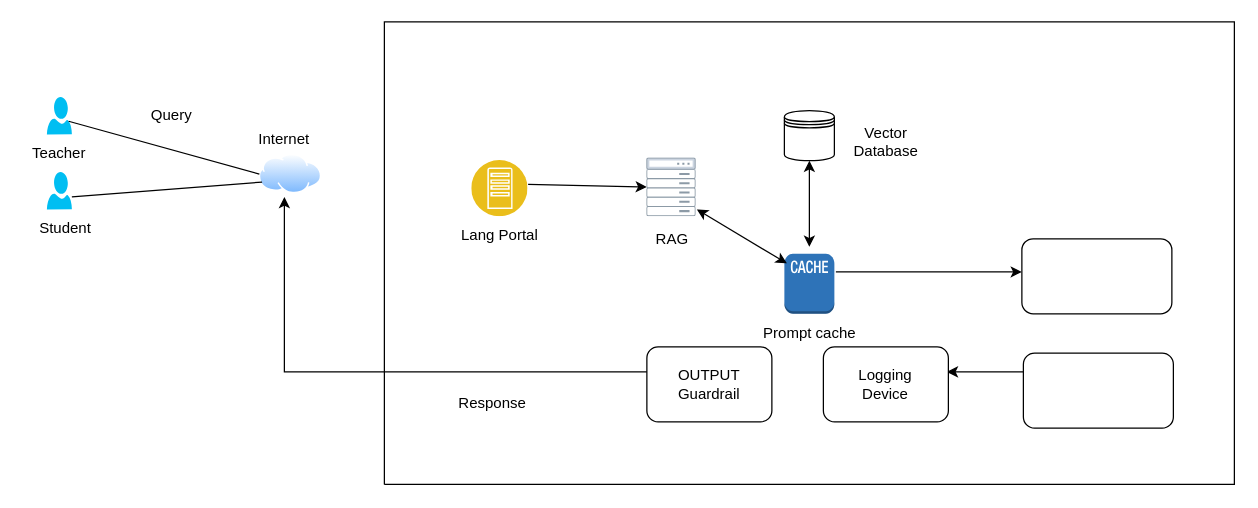
Some shapes in this 1258 by 508 pixel diagram are drawn without their labels. Here are the shapes that lost their labels. From the top down, the box of each, then its label:
(1021, 238, 1172, 314): INPUT Guardrail
(1022, 352, 1173, 428): LLM
